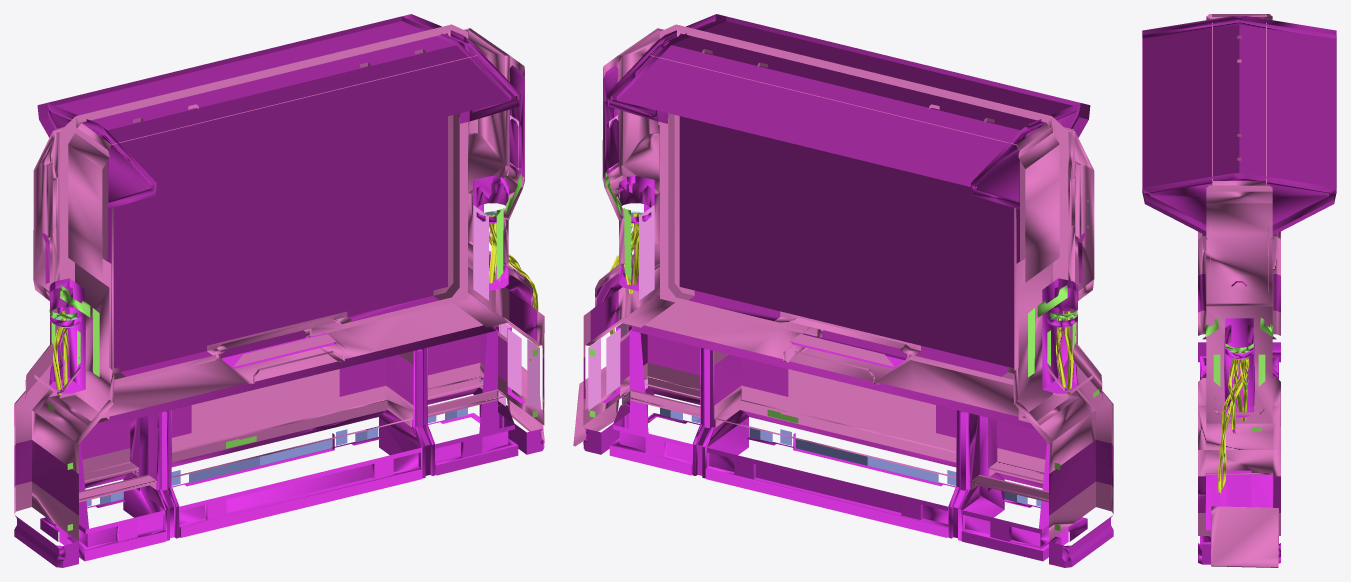
Rendered from screen_advert_1_b.glb.
3 views of the same model, side by side, from view 1: azimuth 30°, elevation 25°; view 2: azimuth 150°, elevation 25°; view 3: azimuth 270°, elevation 25° (orthographic). The views are drawn at different scales.
Size of the model in its own units: 4.59 by 3.62 by 1.75.
